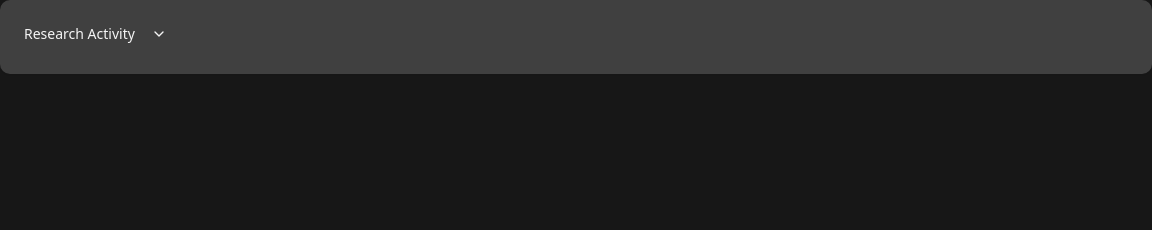
Test: ActivityTimeline › renders events as a list for accessibility
Expand the timeline
Click the button "Research Activity".
click(79, 34)  # box [24,24,1128,44]
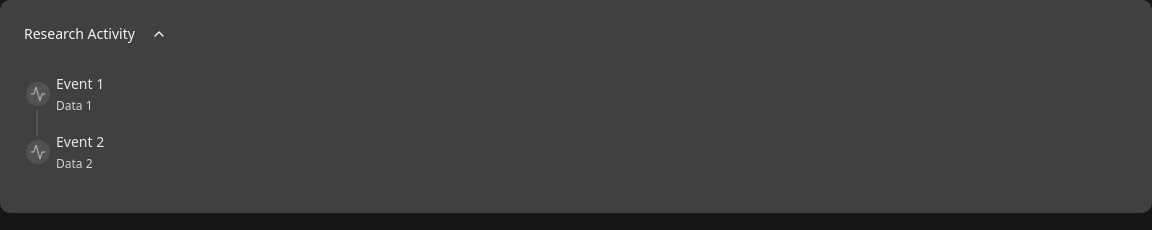
Expected: the list is shown, [26,74,104,172]
Expected: the number of list items is 2, [26,74,104,146]; [26,132,104,172]
Expected: the list item "Event 1 Data 1" is shown, [26,74,104,146]
